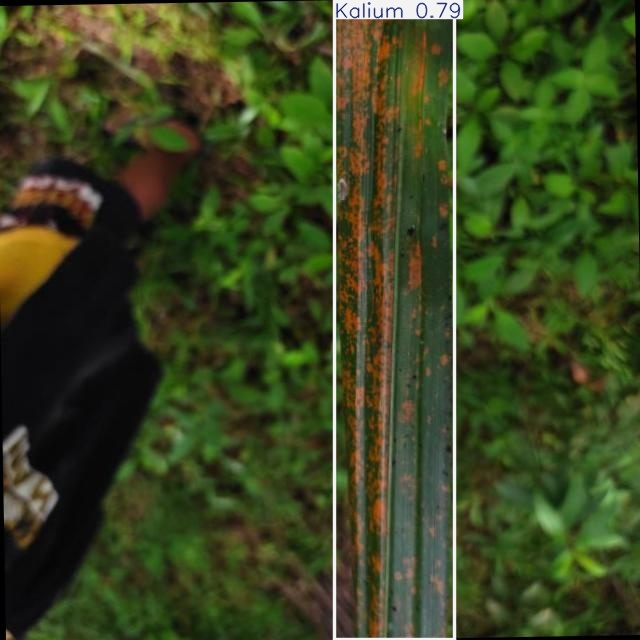Kalium: (335, 0, 455, 640)
